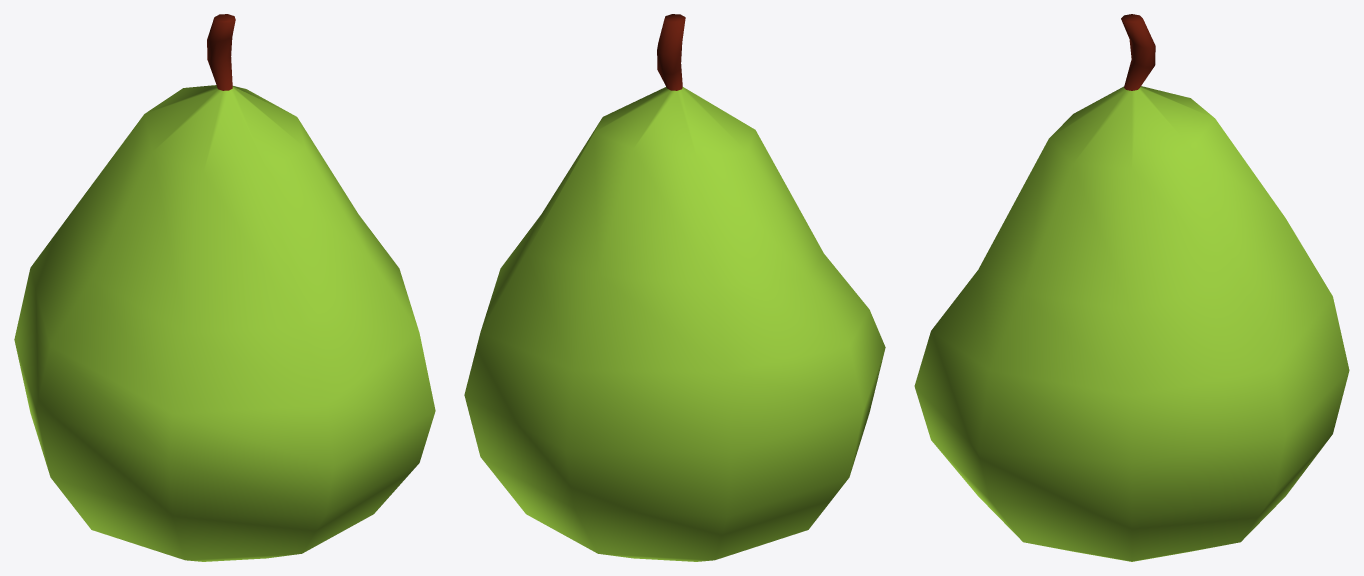
Rendered from pear.fbx.
3 renders of one model, left to right at view 1: azimuth 30°, elevation 25°; view 2: azimuth 150°, elevation 25°; view 3: azimuth 270°, elevation 25°, orthographic.
Visible parts, largest first — view 1: Sphere.002; view 2: Sphere.002; view 3: Sphere.002.
Part boxes in pixels (x1,y1,x2,y2): Sphere.002: (14,14,435,561); Sphere.002: (464,14,885,561); Sphere.002: (914,14,1349,561).
Size of the model in its own units: 391 by 503 by 391.
